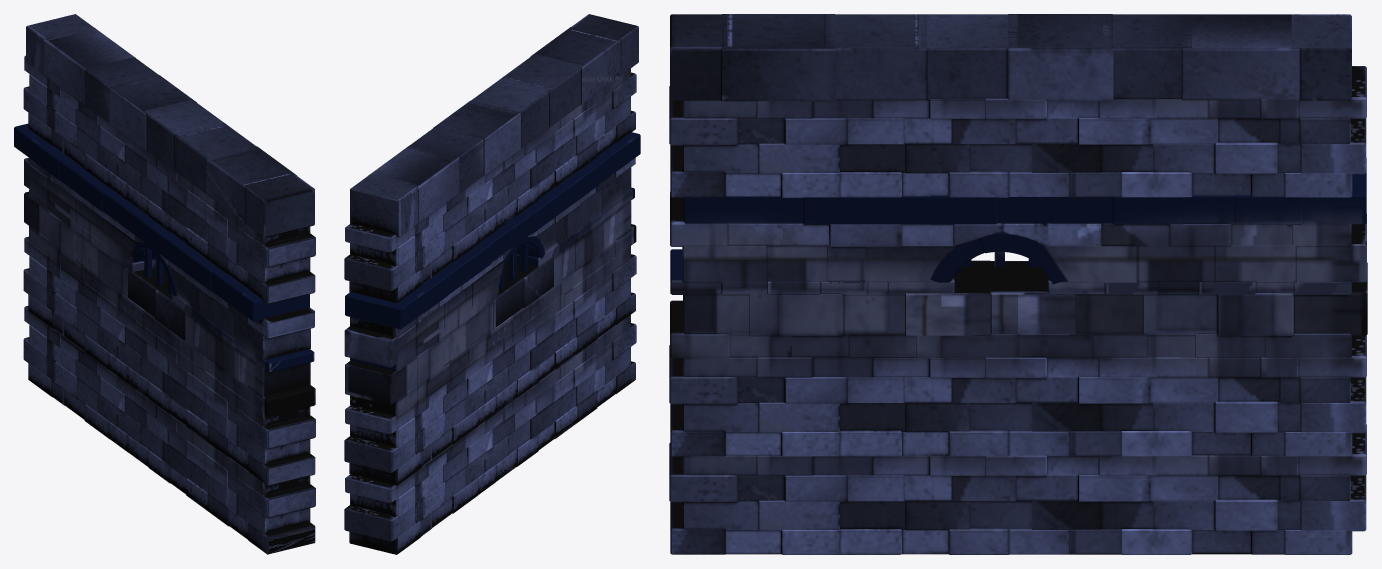
The model's file is Muro_basicoV.2.fbx.
3 views of the same model, side by side, from view 1: azimuth 30°, elevation 25°; view 2: azimuth 150°, elevation 25°; view 3: azimuth 270°, elevation 25° (orthographic). The views are drawn at different scales.
Parts seen in each view (by area): view 1: Muro_A; view 2: Muro_A; view 3: Muro_A.
Part boxes in pixels (bbox=[...]): Muro_A: bbox=[14, 14, 315, 554]; Muro_A: bbox=[344, 14, 640, 554]; Muro_A: bbox=[669, 14, 1367, 554].
Size of the model in its own units: 287 by 1656 by 2069.
